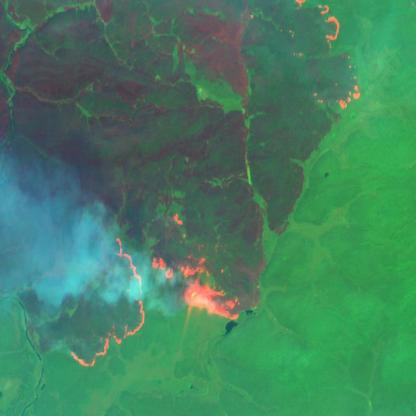fire: (67, 210, 242, 366), (292, 0, 363, 116)
